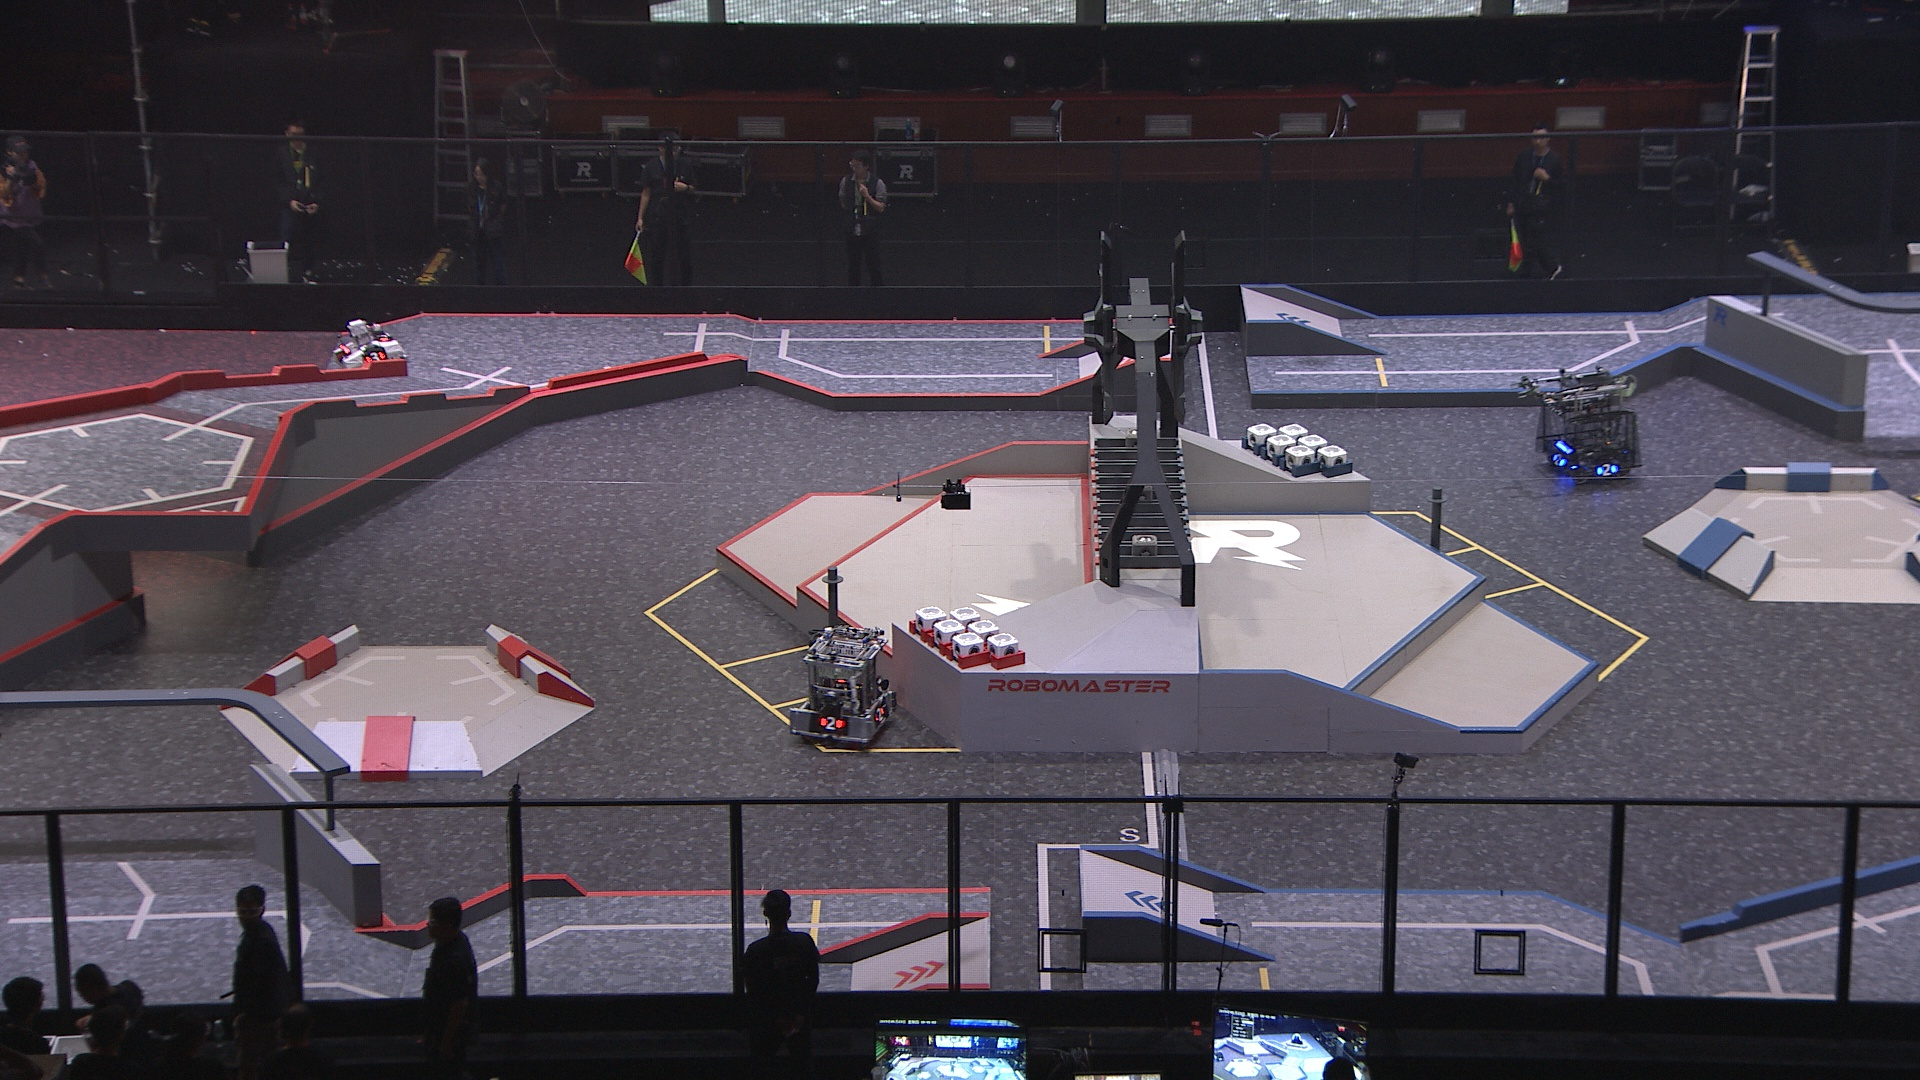armor: (1592, 458, 1621, 480), (822, 713, 849, 735), (363, 347, 386, 367), (1548, 448, 1569, 469), (870, 703, 889, 723)
car: (785, 622, 902, 756), (1531, 365, 1643, 483), (332, 313, 410, 372)
